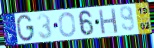3: (37, 13, 53, 42)
6: (78, 9, 96, 38)
9: (120, 5, 137, 34)
G: (16, 14, 36, 43)
H: (98, 7, 120, 35)
O: (58, 12, 77, 39)
